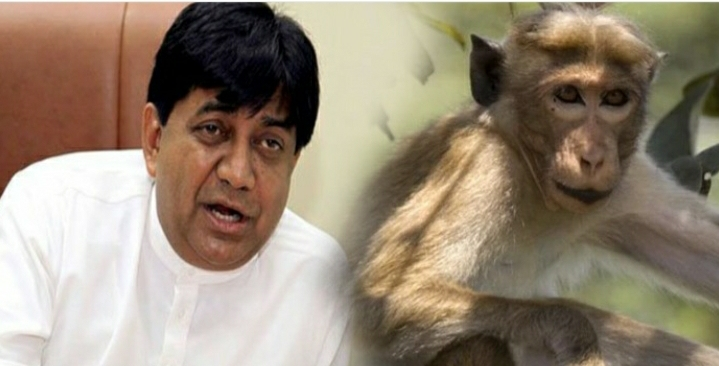Monkey: (376, 4, 688, 366)
